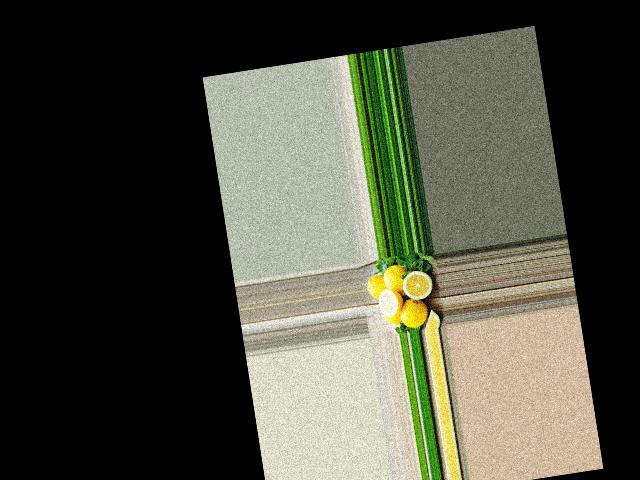lemon: (382, 308, 404, 327)
